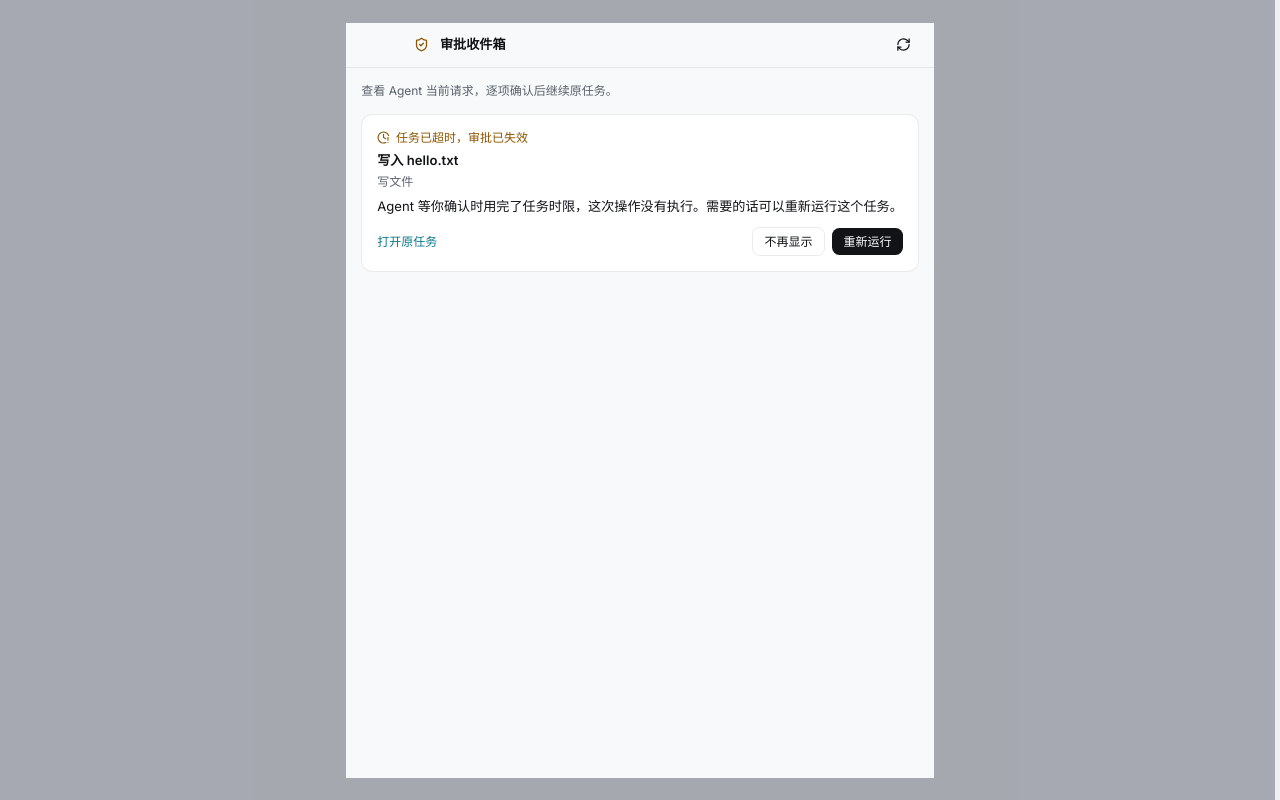
Scenario: approvals that ran out with the task's time limit › re-runs the task from the inbox
The width and height of the screenshot is (1280, 800).
Click the button "重新运行" at (867, 242), box [832, 228, 903, 255]
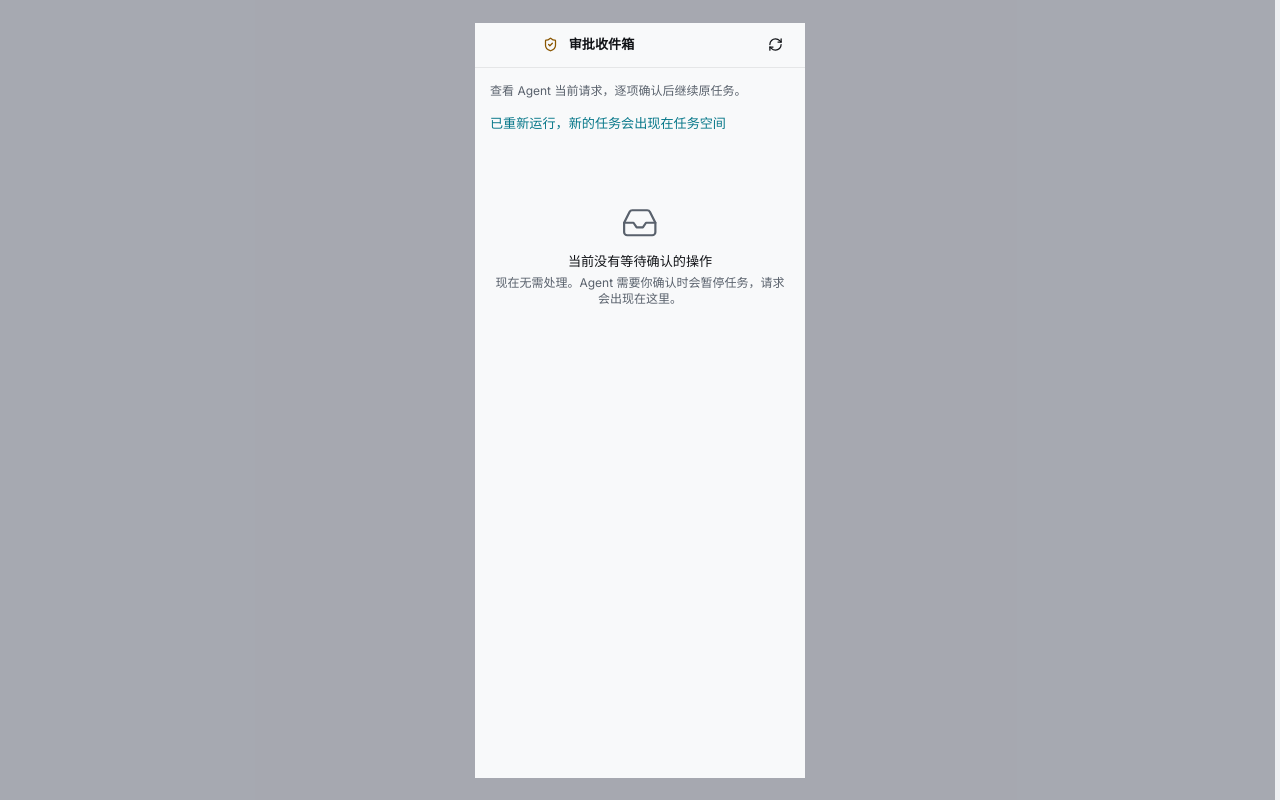
Result: the message shows "已重新运行" at [490, 114, 726, 130]
Result: the text "任务已超时，审批已失效" is gone
